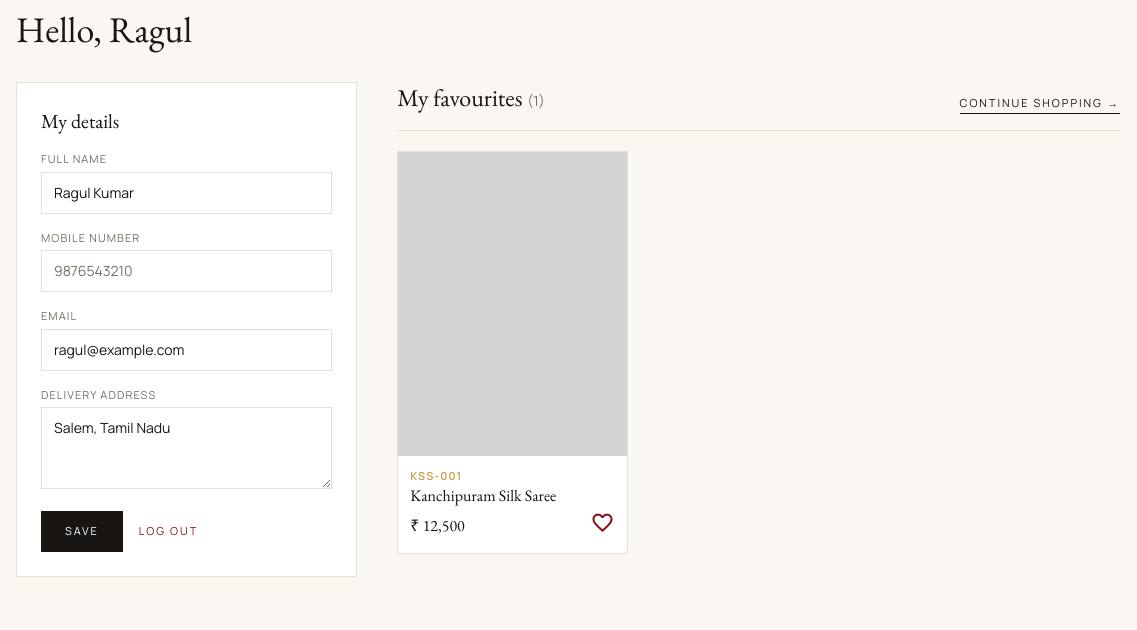
Scenario: AccountView › saves profile changes
The width and height of the screenshot is (1137, 630).
Replace the text in the field showing "Ragul Kumar" below "Full name" with "Ragul M" at [187, 192], box 41,172 -> 332,214
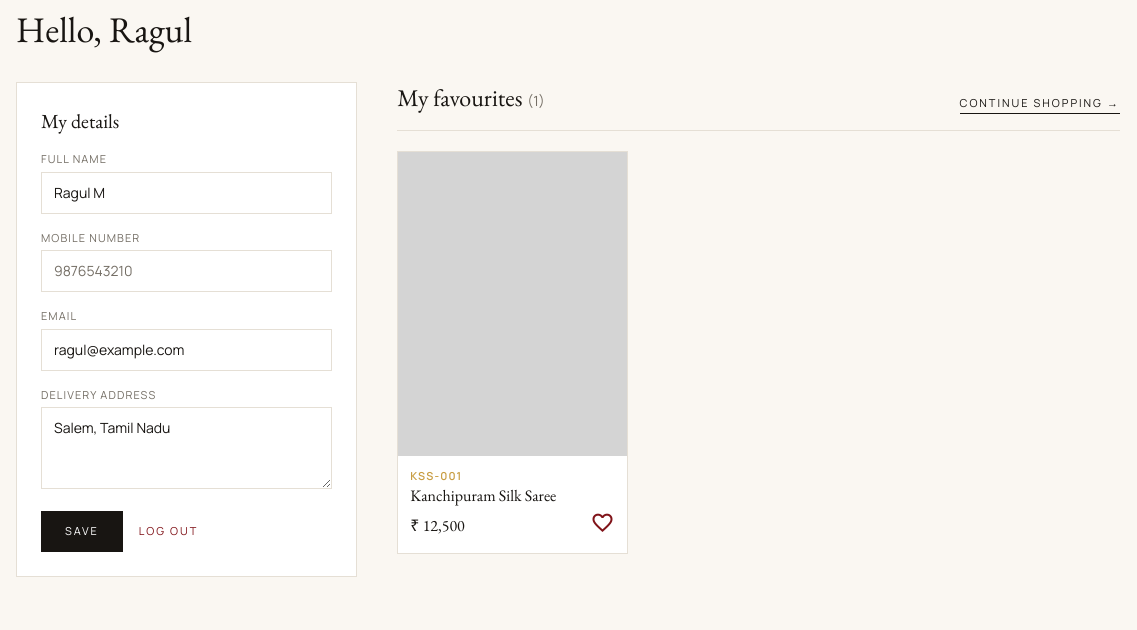
Replace the text in the field showing "ragul@example.com" below "Email" with "new@example.com" at [187, 350], box 41,328 -> 332,370
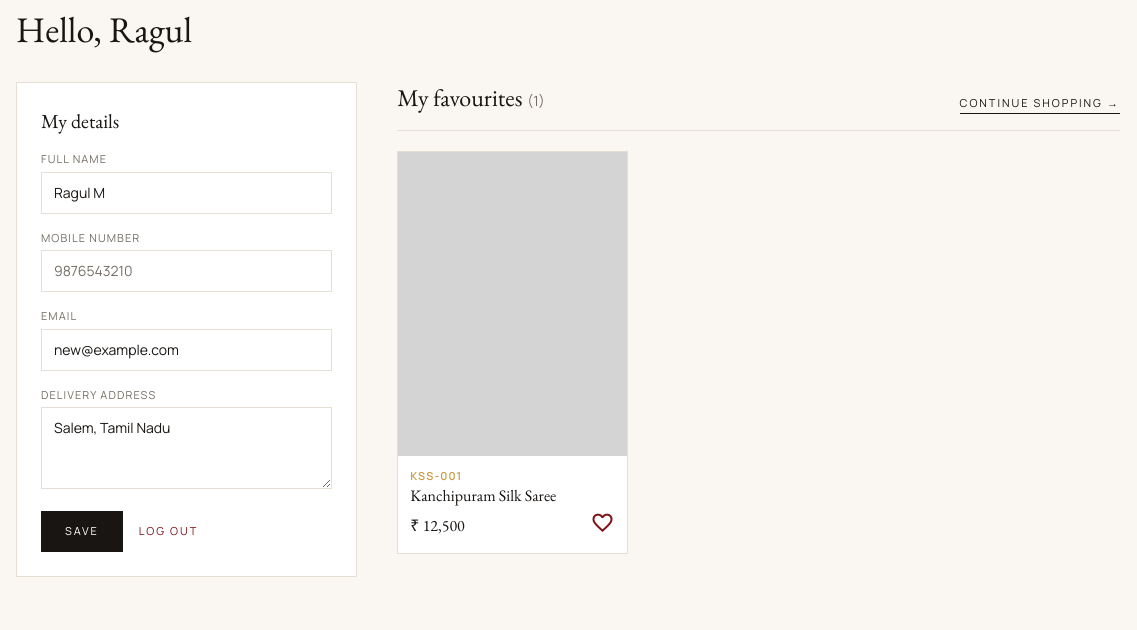
Replace the text in the text box showing "Salem, Tamil Nadu" with "Chennai, Tamil Nadu" at [187, 448], box 41,407 -> 332,489
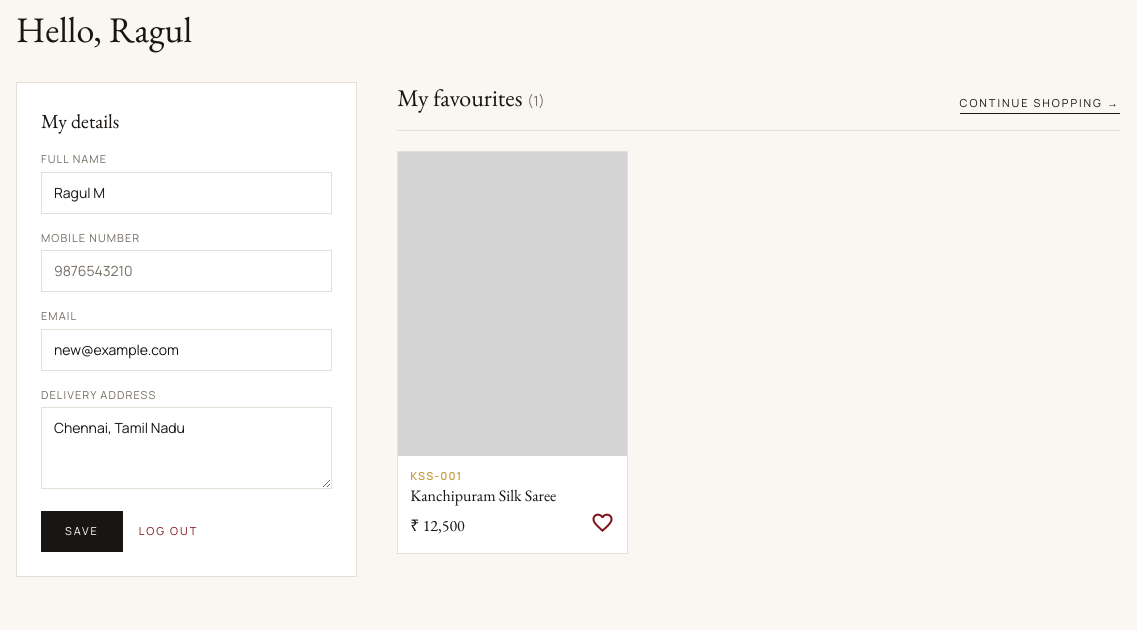
Click the button "Save" at [82, 531], box 41,511 -> 123,552
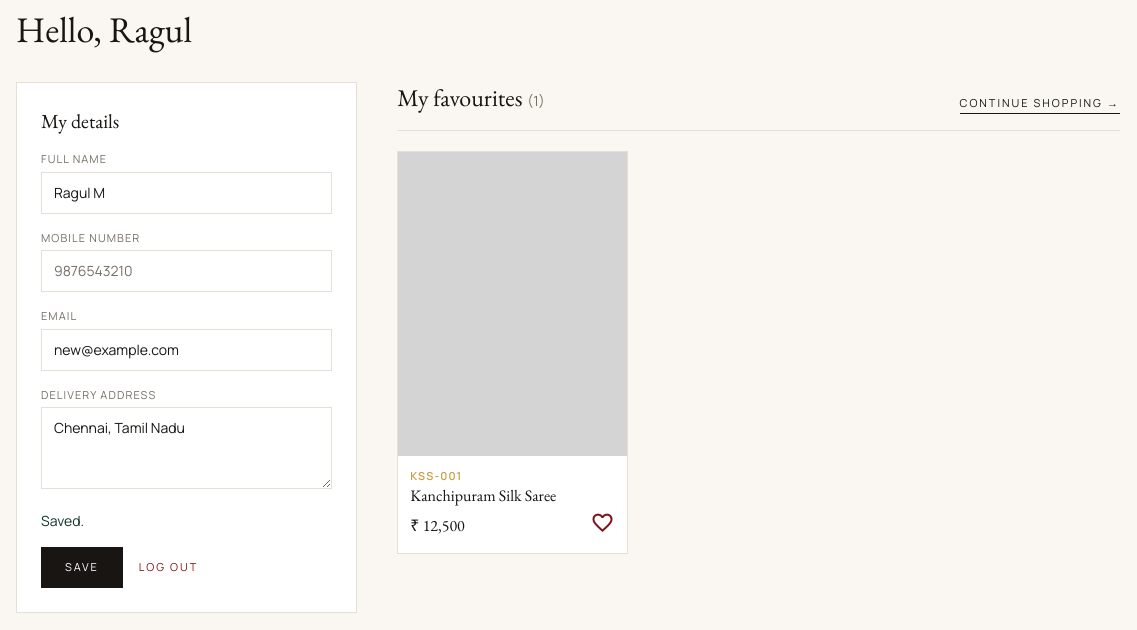
Now the text "Saved." is shown, box 41,511 -> 84,530
